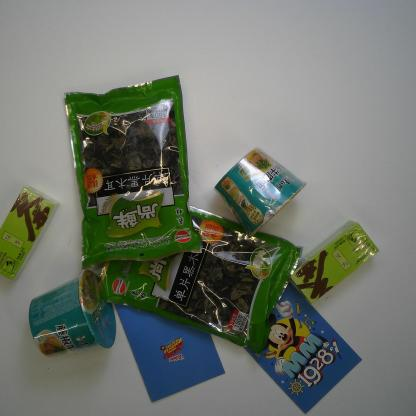Dried Food: (97, 205, 304, 353), (62, 74, 203, 274)
Instant Drink: (290, 219, 380, 305), (0, 184, 60, 282)
Instant Noodles: (214, 146, 307, 240), (28, 268, 116, 359)
Stationery: (244, 275, 364, 414), (114, 303, 226, 403)
